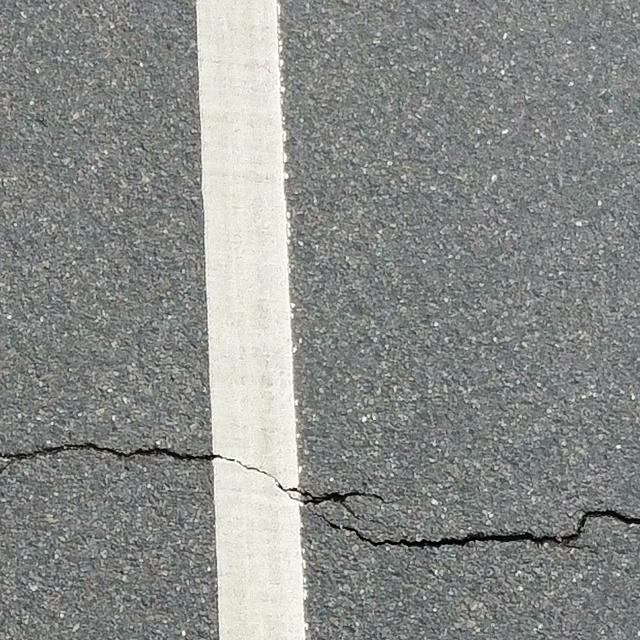TransverseCrack: (1, 449, 640, 549)
